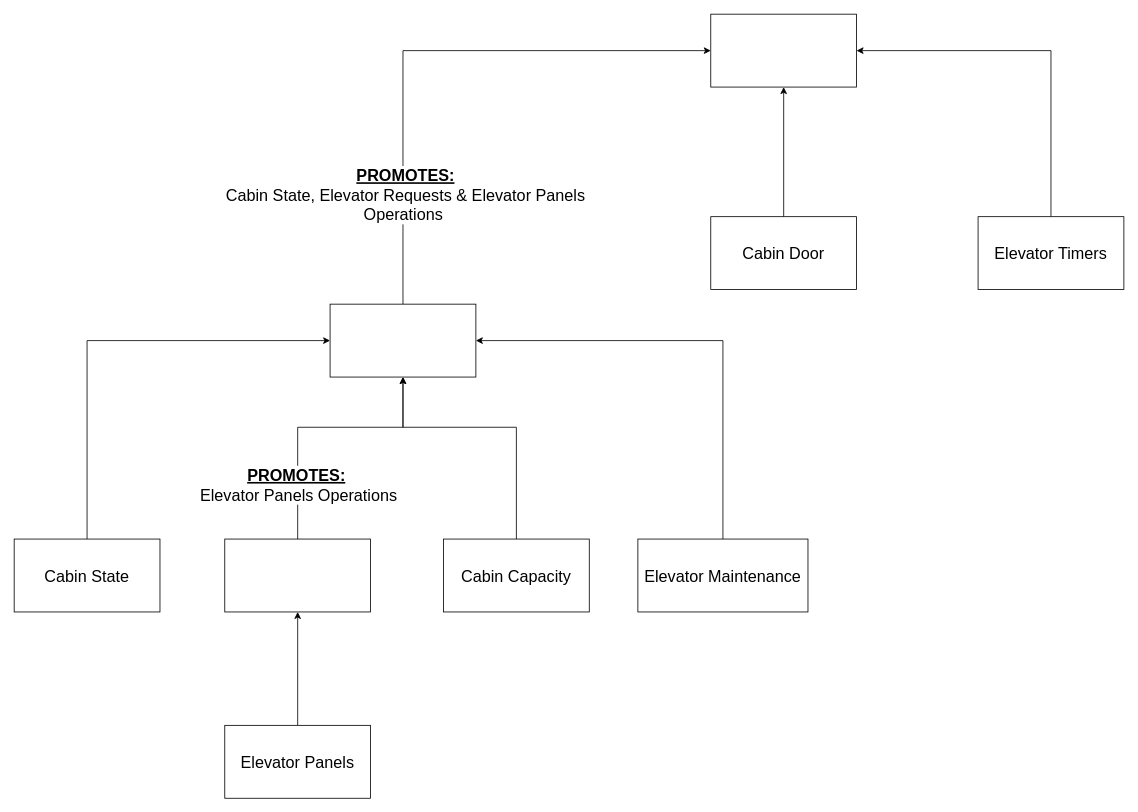
Image size: 1138x812. Some labels were removed from this diagram. The shapes that lost their labels are listed below. From the top down, each one's box as (x1, y1, x2, y2) in pixels, then its label:
(710, 13, 857, 87): Elevator Control
(329, 303, 476, 377): Request Service
(224, 538, 371, 612): Elevator Requests
